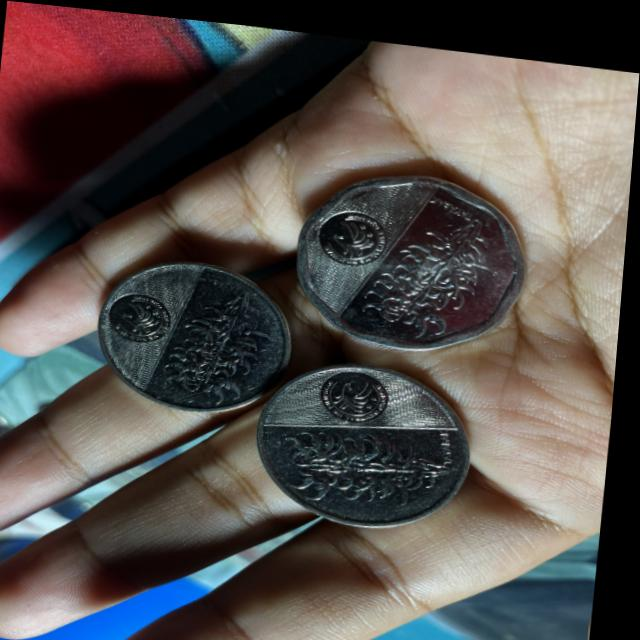5_New_Back: (377, 193, 500, 333), (289, 411, 451, 499), (174, 274, 279, 400)
